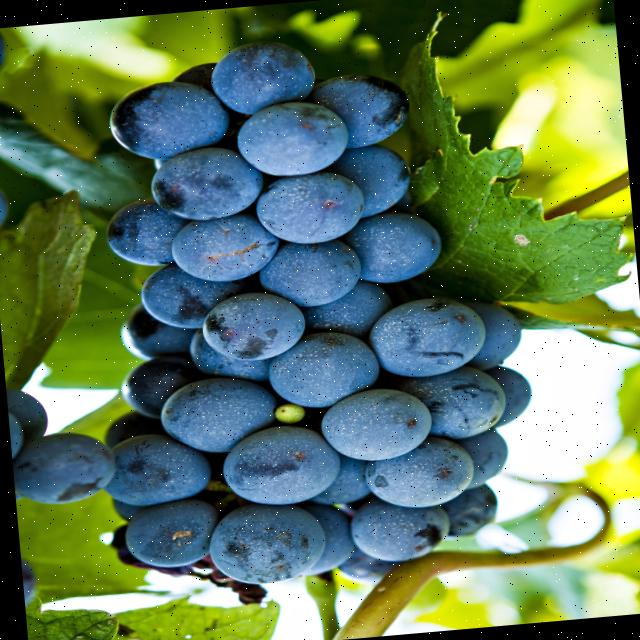grape: (0, 41, 527, 583)
